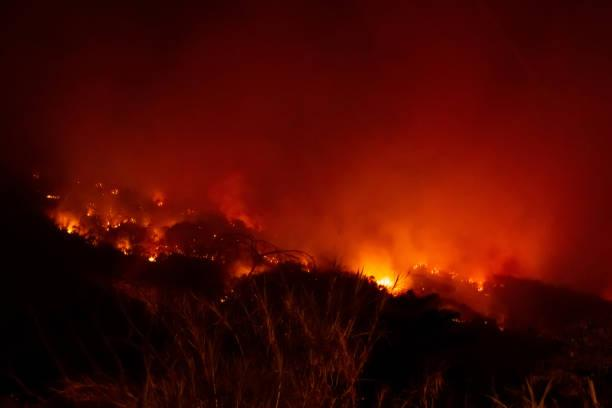Fire: (380, 266, 405, 293)
